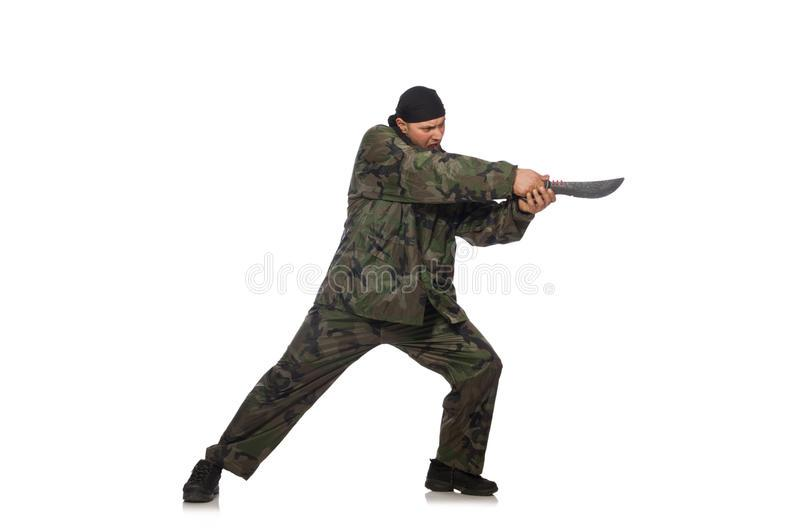criminal: (180, 85, 630, 508)
weapon: (533, 171, 629, 200)
